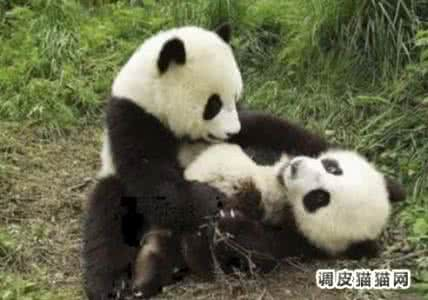panda: (86, 142, 406, 294), (86, 20, 251, 300)
